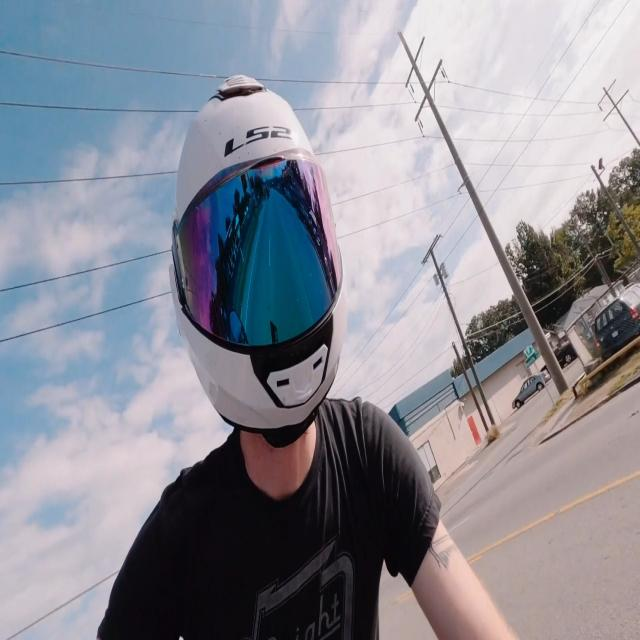Helmet_Wearer: (164, 69, 346, 436)
Person: (91, 67, 526, 640)
